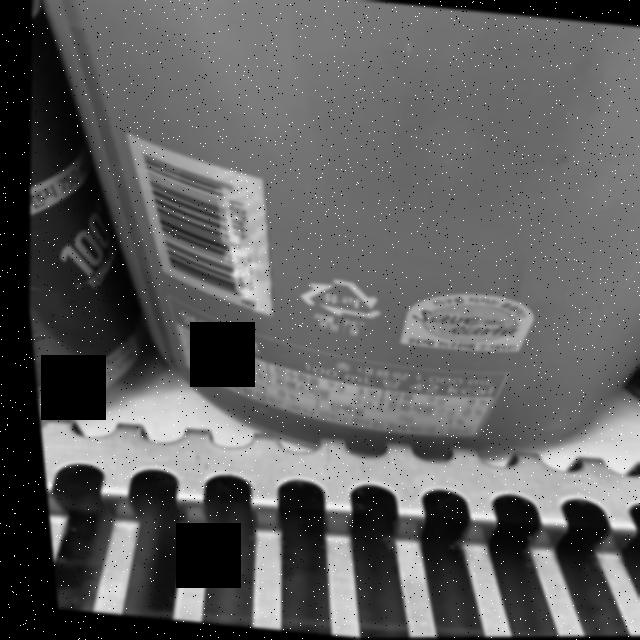Glass: (288, 271, 381, 321)
